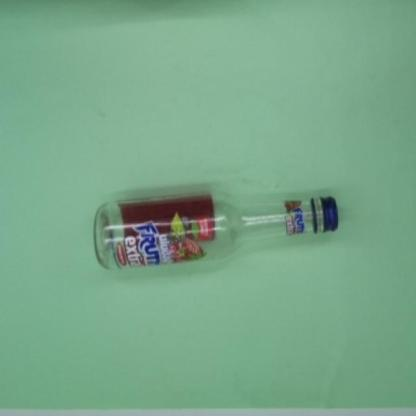Can: (94, 190, 338, 271)
